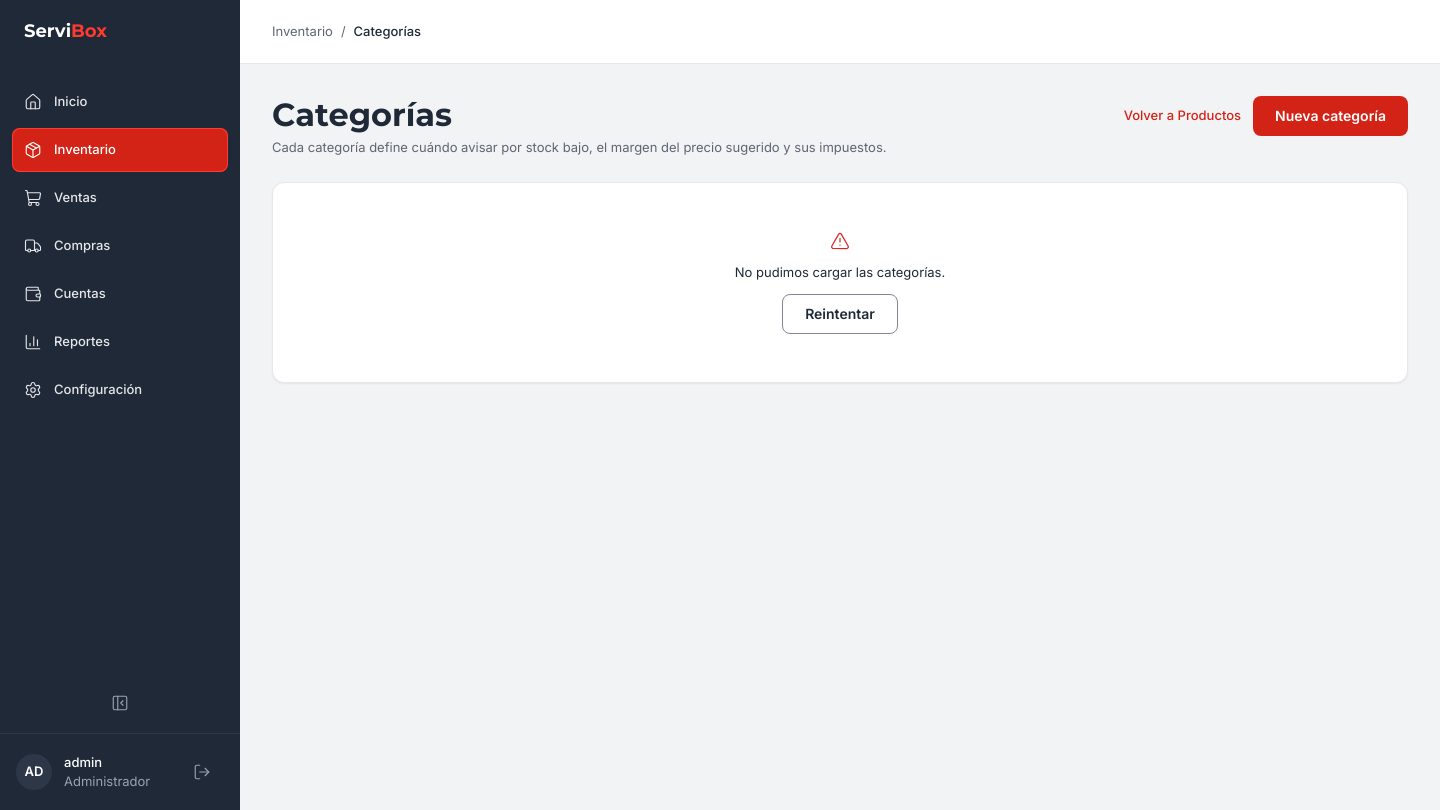
categorias › un error al cargar las categorias ofrece reintentar
Click the button "Reintentar": (840, 314) [782,294,898,334]
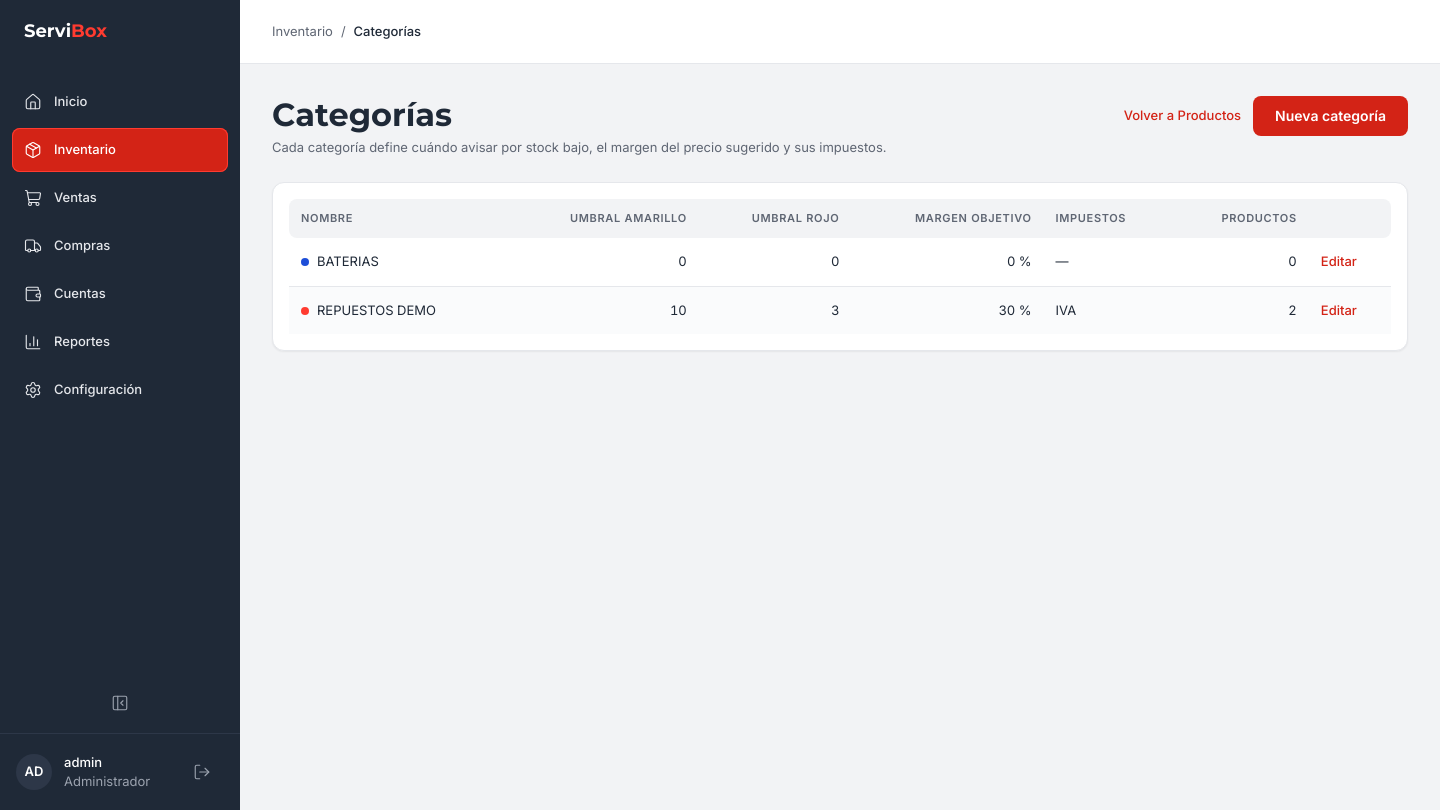
Expected: the number of buttons named "Editar REPUESTOS DEMO" is 2
